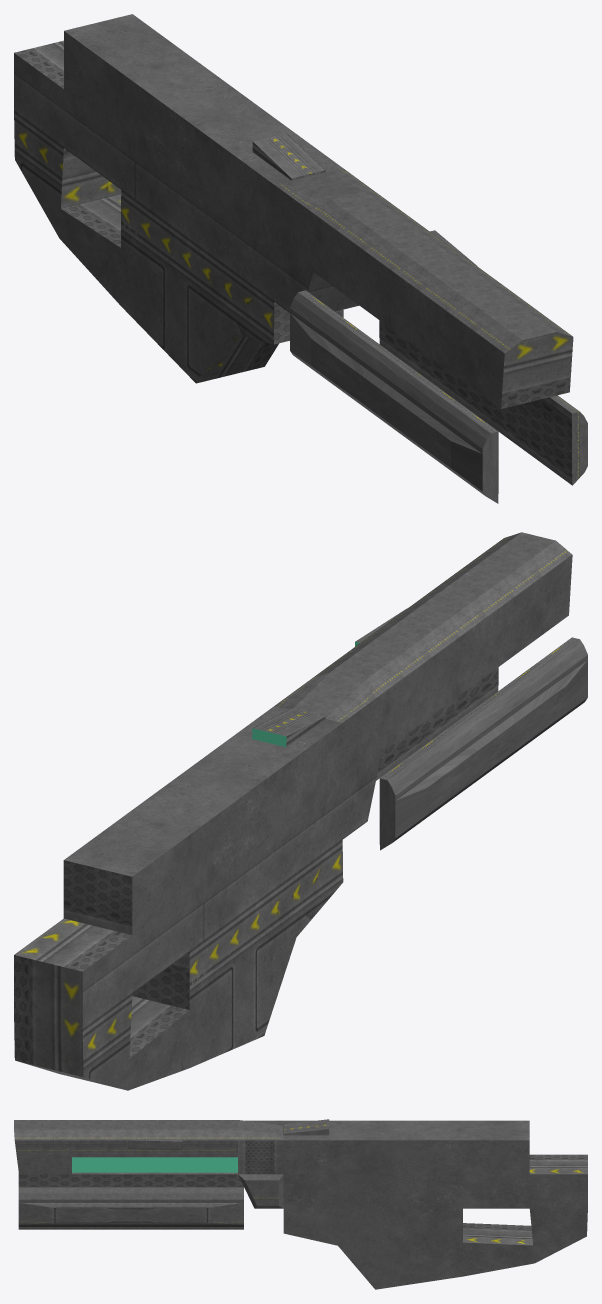
Rendered from Wep3prototypeTextures.fbx.
The picture shows the model from 3 angles, top to bottom: view 1: azimuth 30°, elevation 25°; view 2: azimuth 150°, elevation 25°; view 3: azimuth 270°, elevation 25°; orthographic projection. The views are drawn at different scales.
Visible parts, largest first — view 1: CannonBody, RightPanel, LeftPanel; view 2: CannonBody, RightPanel, LeftPanel; view 3: CannonBody, LeftPanel, RightPanel.
Boxes of the visible parts, x1,y1,x2,y2 form: CannonBody: [14, 14, 573, 408]; RightPanel: [290, 290, 498, 503]; LeftPanel: [379, 320, 587, 485]; CannonBody: [14, 532, 572, 1090]; RightPanel: [379, 637, 587, 850]; LeftPanel: [376, 667, 498, 780]; CannonBody: [14, 1119, 587, 1289]; LeftPanel: [18, 1187, 243, 1229]; RightPanel: [18, 1173, 243, 1187].
Size of the model in its own units: 117 by 258 by 861.
